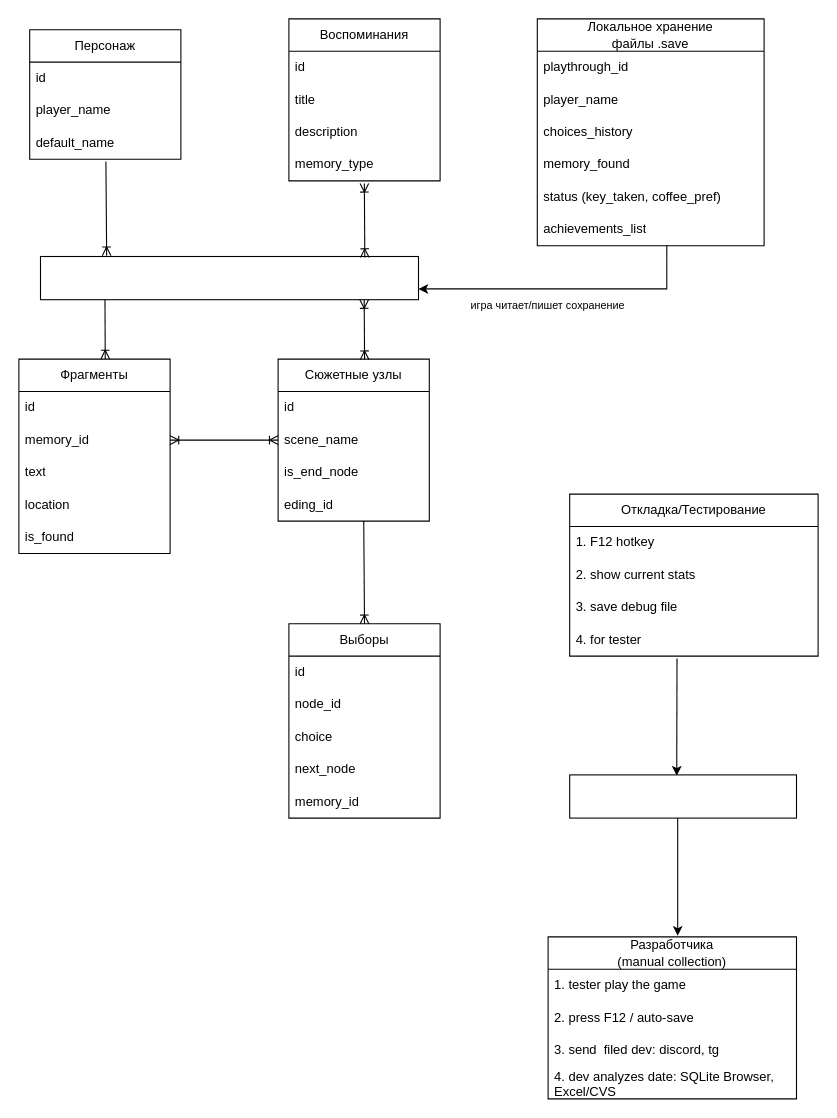
Image size: 837x1118. Some labels were removed from this diagram. The centre of each missing label's shape, as x and y in pixels:
"Игрок (состояние)" goes at point 228,277.
"Файлы статистики (local .db/ .json)" goes at point 682,796.
